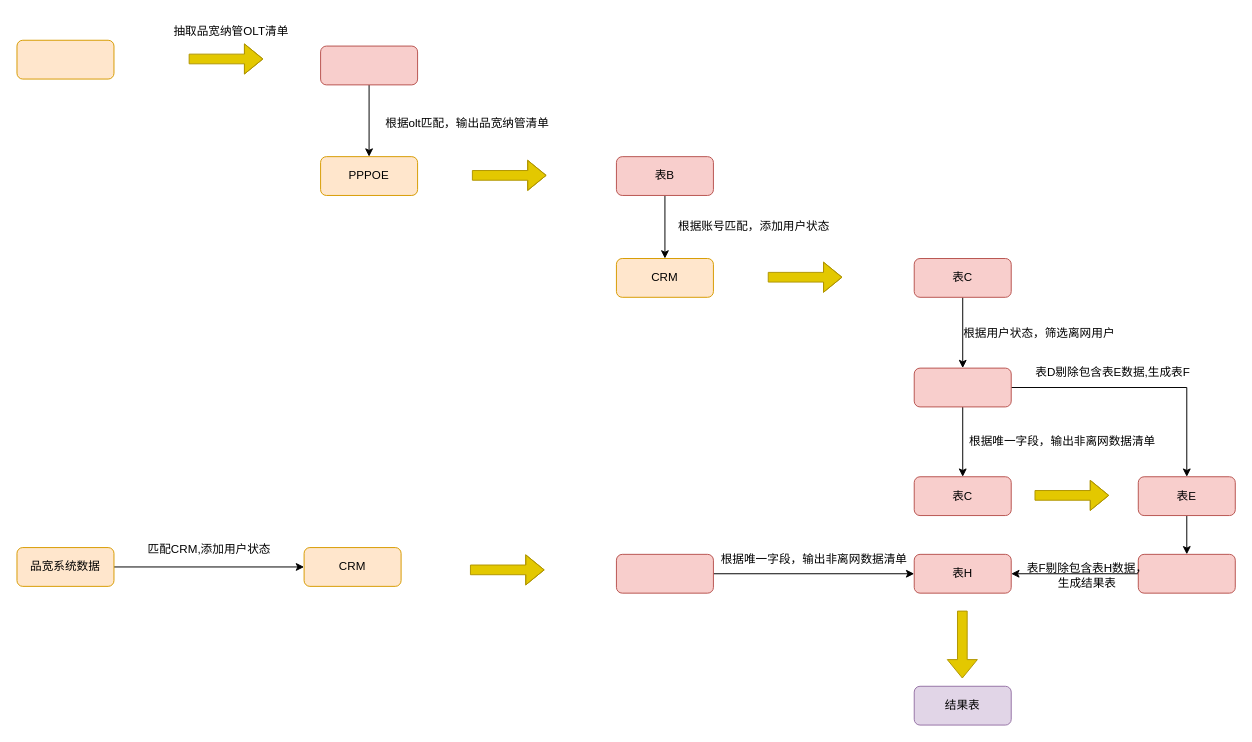
Image size: 1252x742. Some labels were removed from this diagram. Each missing label, with the centre of its shape:
"品宽纳管用户清单" goes at (65,59).
"表A" goes at (369,65).
"表D" goes at (962,387).
"表F" goes at (1186,573).
"表G" goes at (664,573).
